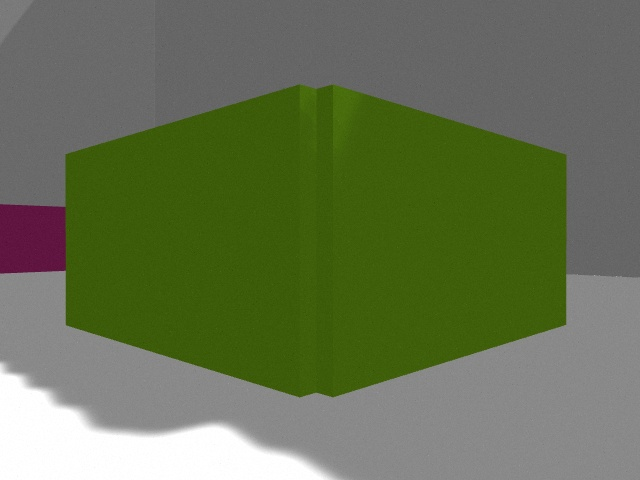green_drop_zone: (65, 85, 567, 397)
red_drop_zone: (0, 204, 66, 274)
